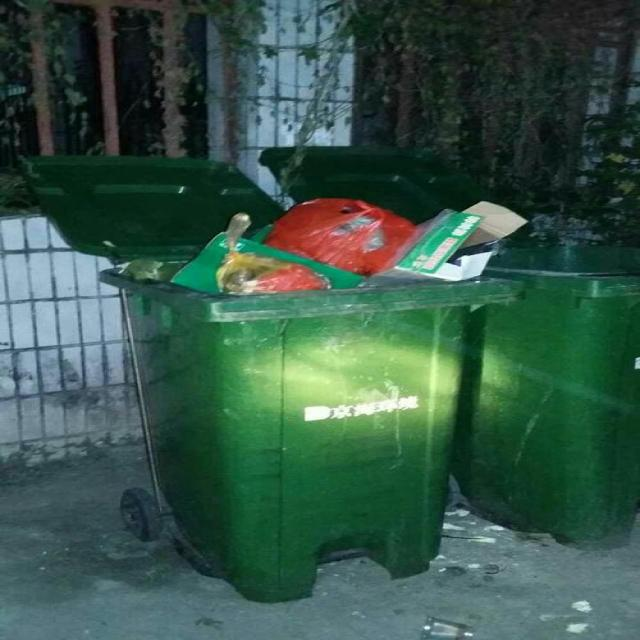garbage_bin: (448, 244, 639, 548)
overflow: (97, 199, 526, 605)
